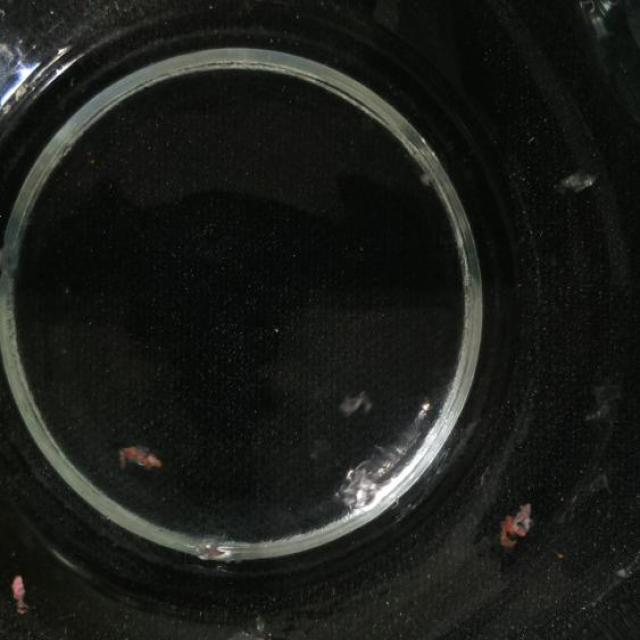fiber: (230, 589, 299, 639), (498, 501, 544, 552), (115, 438, 172, 473), (554, 161, 602, 199), (3, 564, 38, 615), (0, 225, 25, 284), (335, 387, 373, 416)
